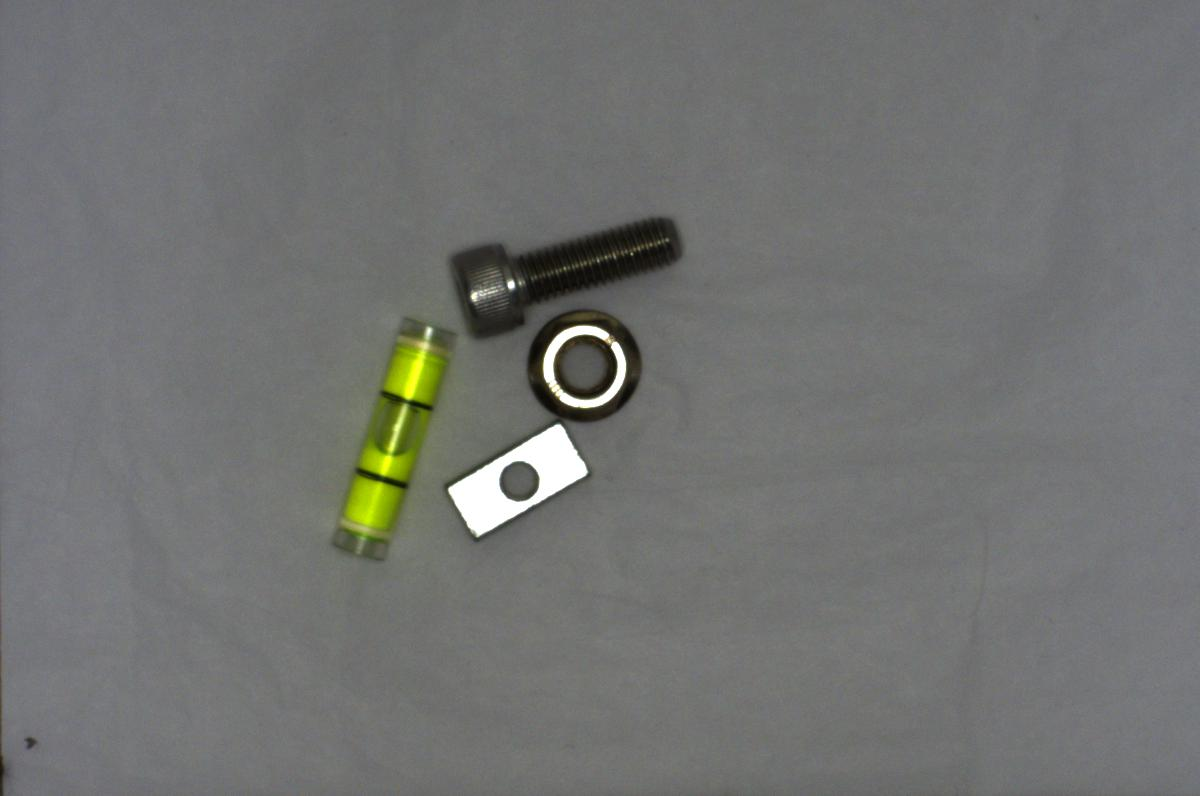Flange nut: (520, 303, 647, 425)
Hexagon screw: (445, 212, 690, 338)
Horizontal bubble: (320, 310, 452, 568)
Rectangular nut: (437, 421, 597, 543)
